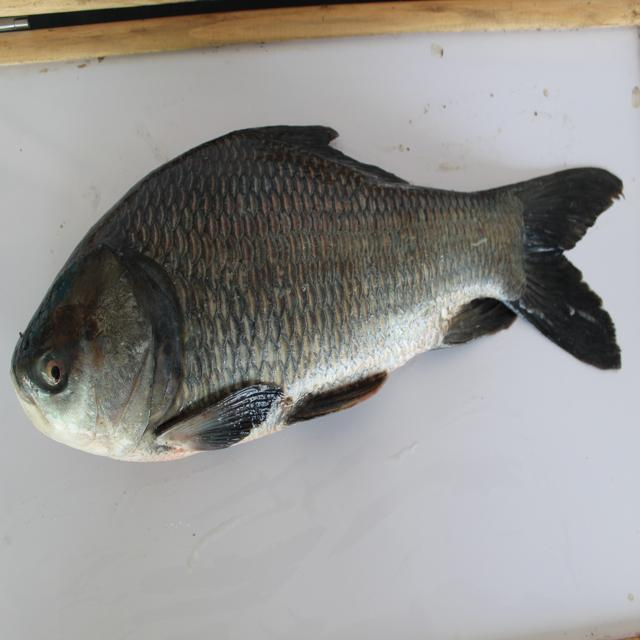Catla: (16, 125, 628, 464)
